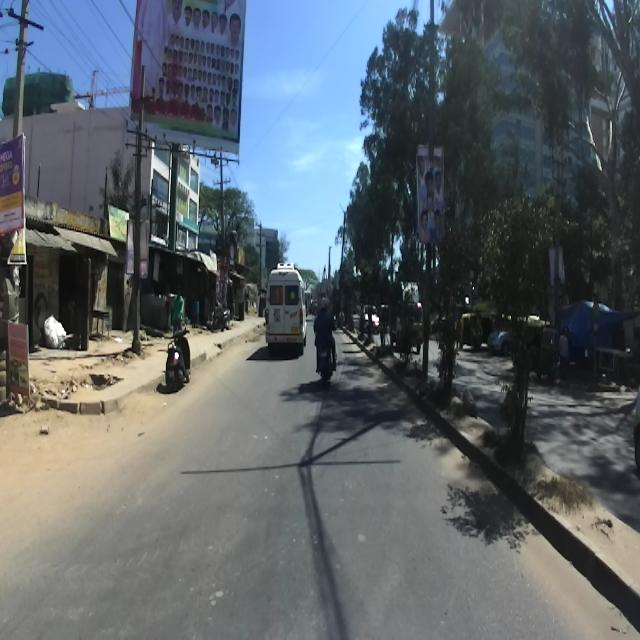bus ahead at: (264, 260, 304, 351)
electric pole ahead at: (128, 61, 154, 365)
motorcycle ahead at: (164, 318, 196, 386), (312, 334, 337, 386)
